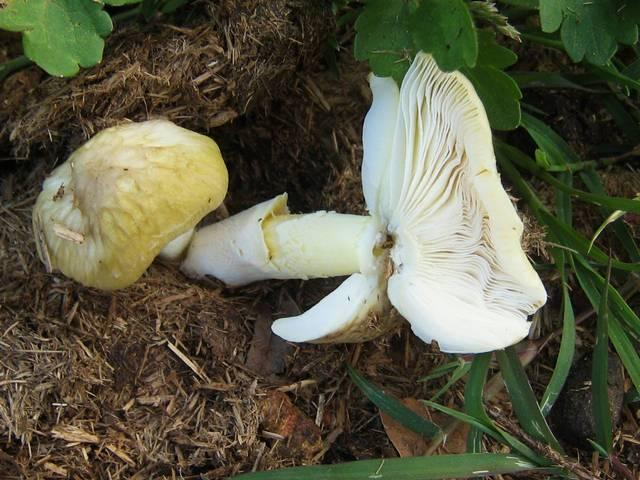edible_mushroom: (178, 48, 548, 355), (30, 117, 229, 291)
